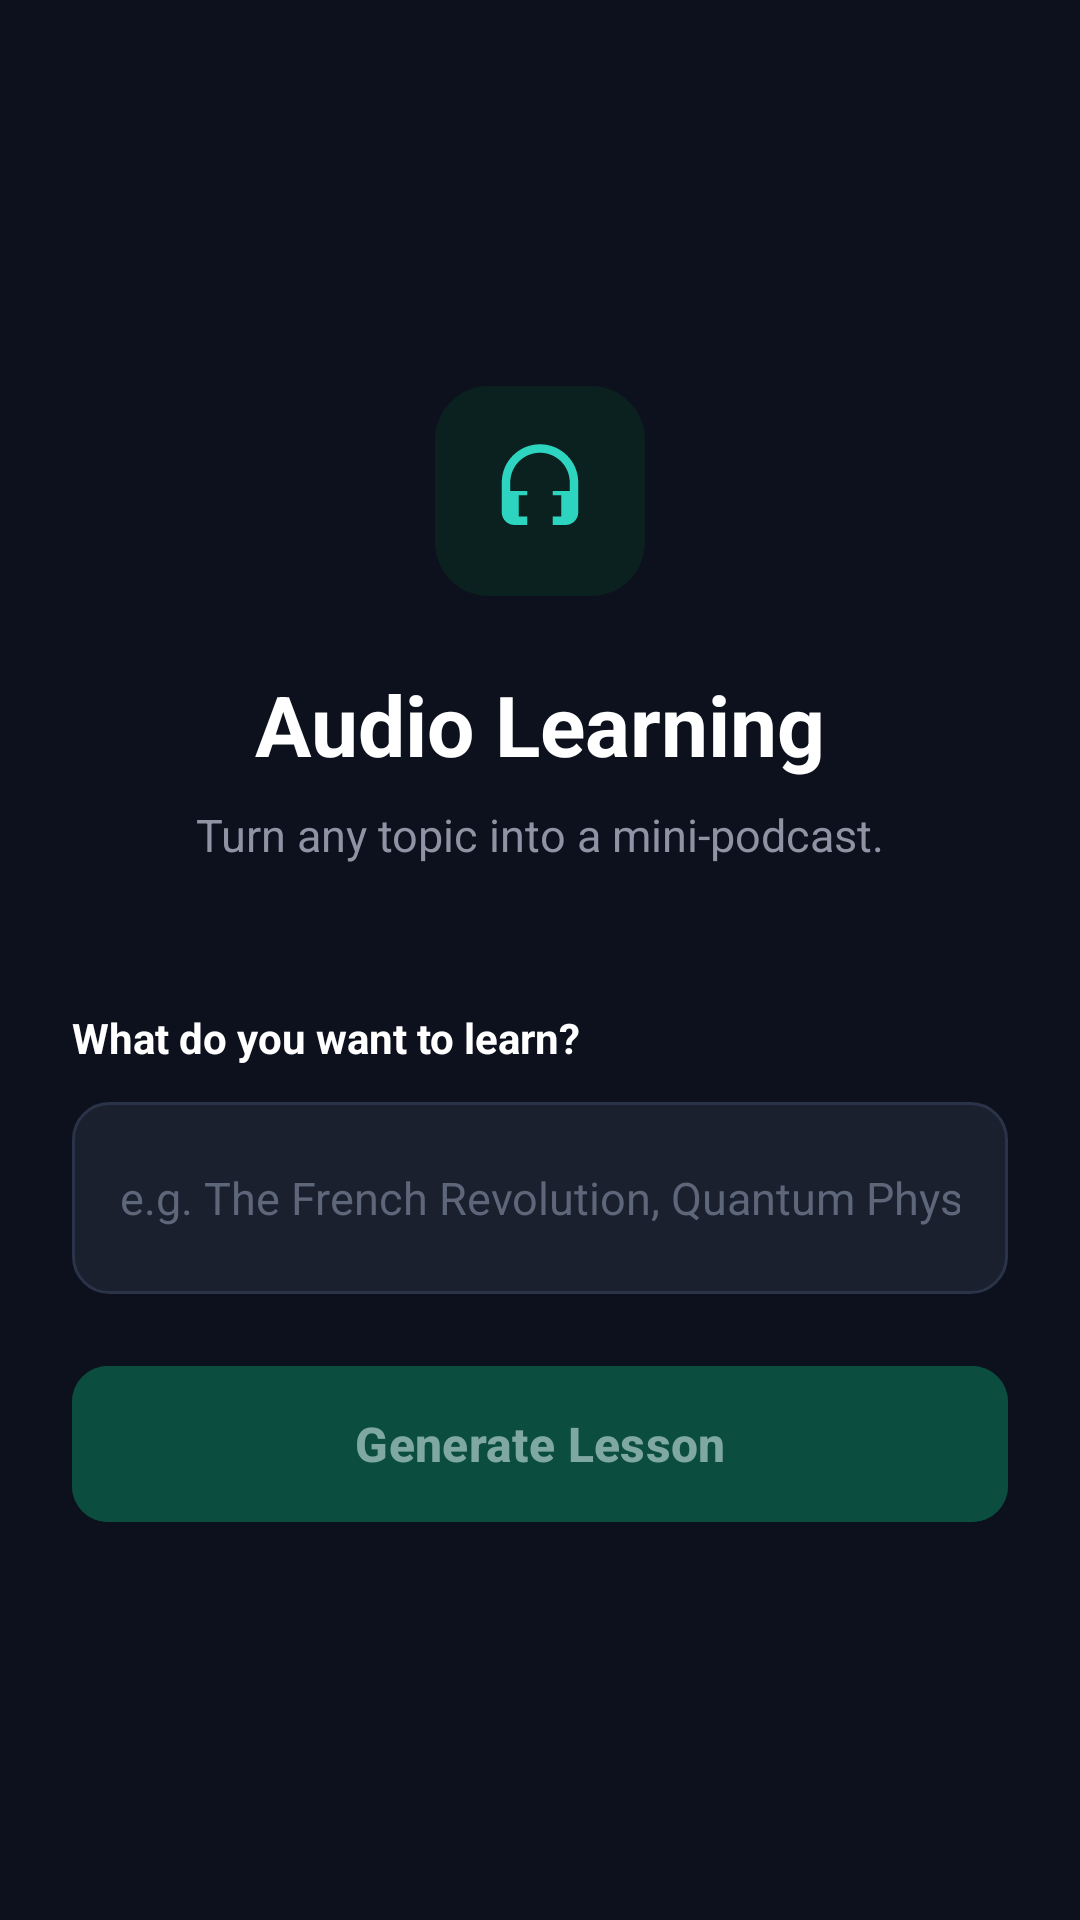

Screen size 1080px x 1920px. Icon name, then its center in pixels as point (x, y):
headphones: point (540, 491)
